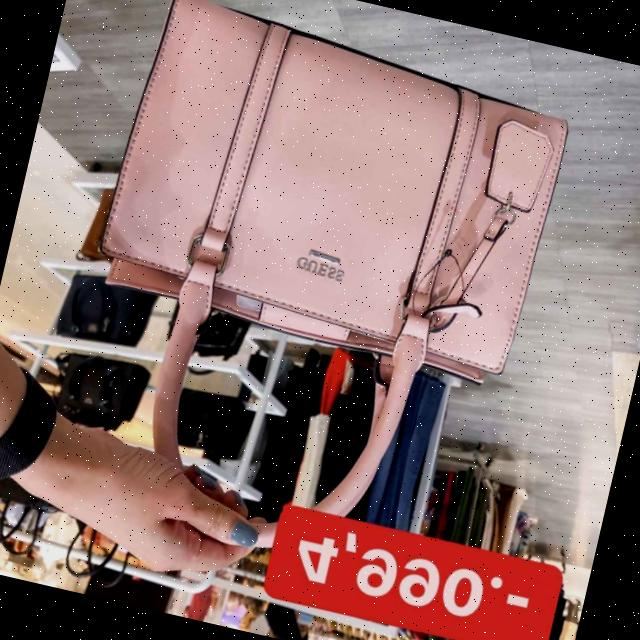handbag: (47, 0, 601, 424)
